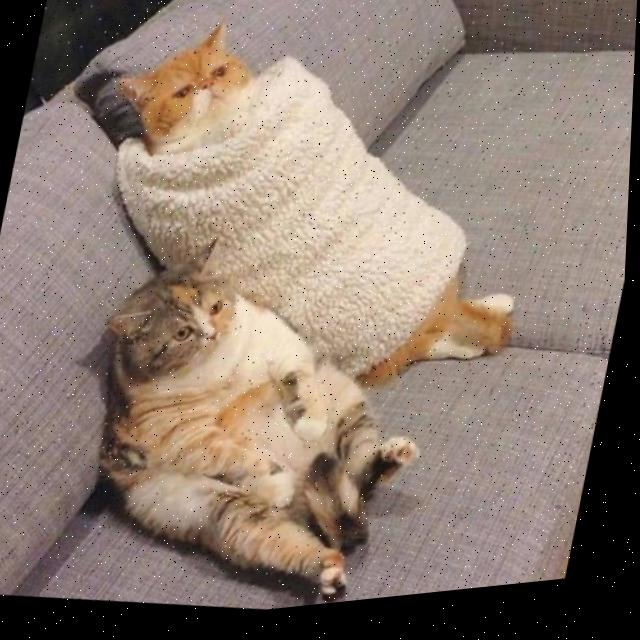Cats: (0, 162, 483, 639), (74, 0, 277, 174)
